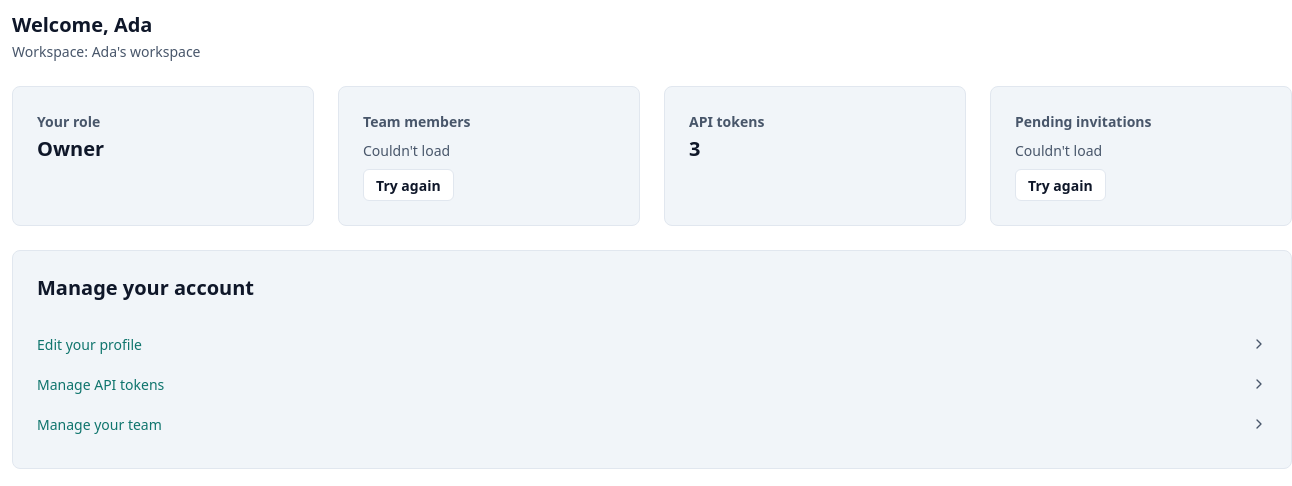
Test: home dashboard (UI-09) › gives the members and invitations cards their own error with a retry that does not affect the others
Expected: the element with test id "stat-members" shows "Couldn't load", [363,141,450,160]
Expected: the element with test id "stat-tokens" shows "3", [665,87,965,185]
Click the button with test id "stat-members-retry".
click(408, 185)  # box [363,169,454,201]
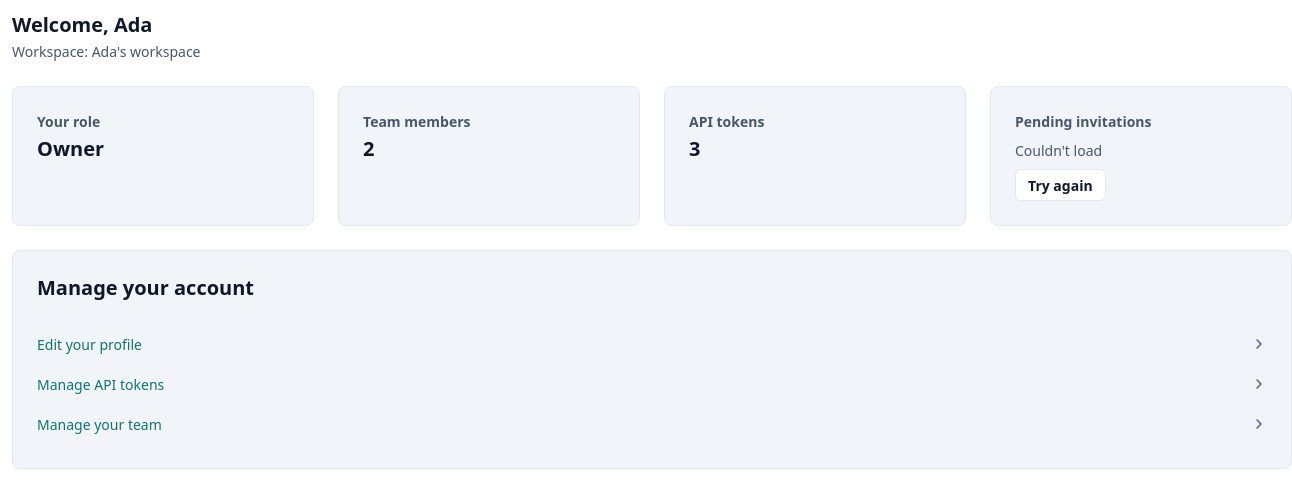
Result: the element with test id "stat-members" shows "2" at [339,87,639,185]
Click the button with test id "stat-invitations-retry".
click(1060, 185)  # box [1015,169,1106,201]
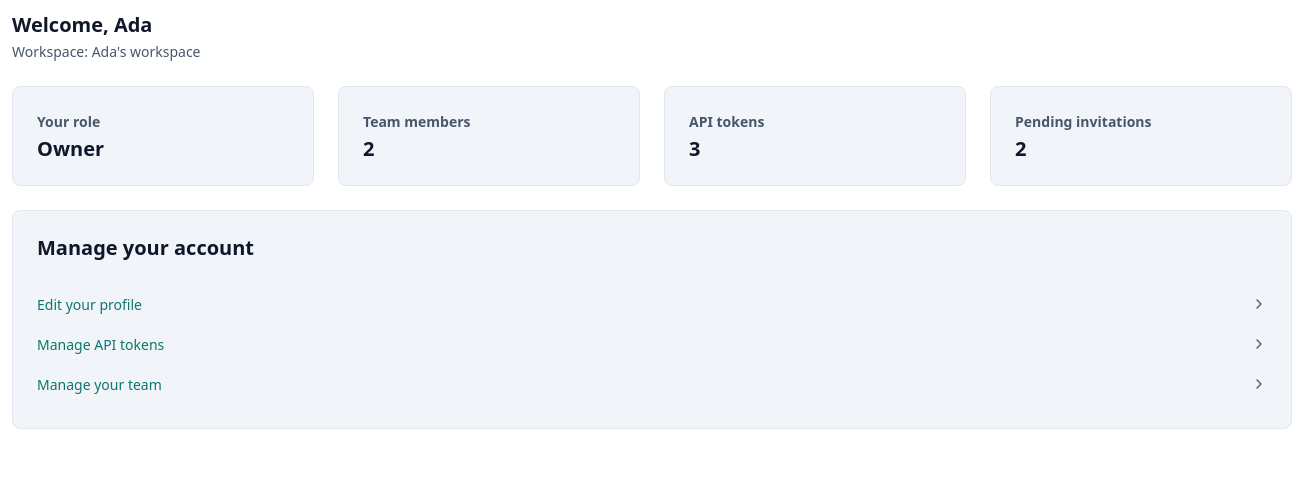
Result: the element with test id "stat-invitations" shows "2" at [991,87,1291,185]
